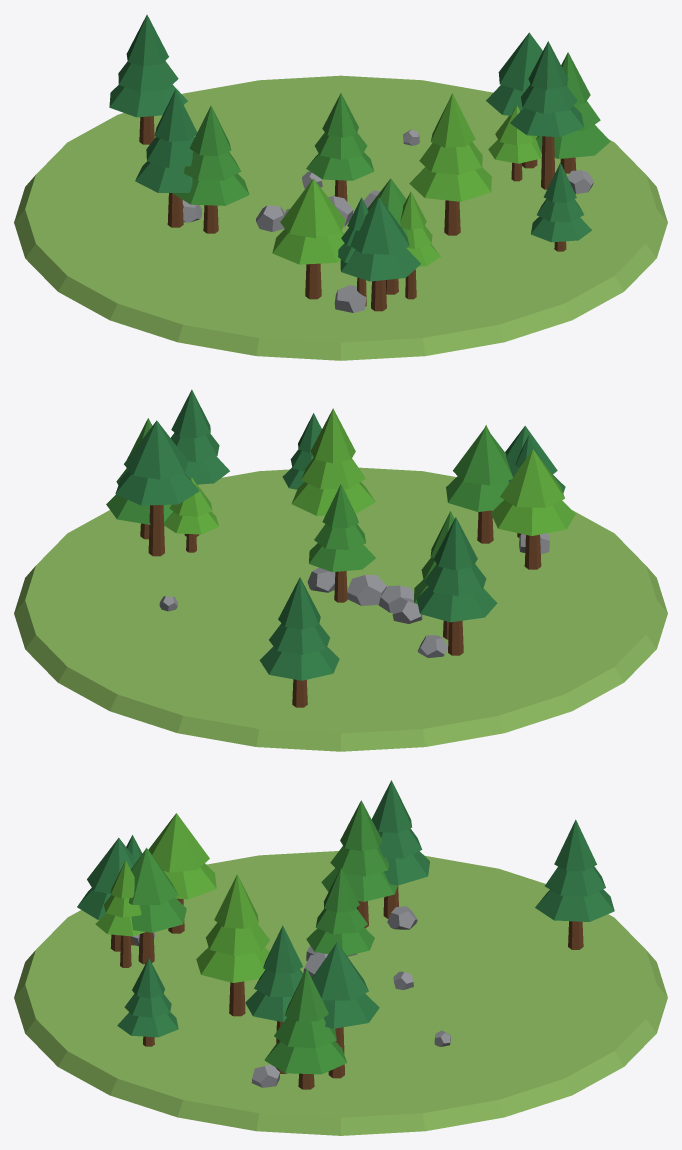
The model's file is tree-grove.ee99a719.glb.
3 renders of one model, top to bottom at view 1: azimuth 30°, elevation 25°; view 2: azimuth 150°, elevation 25°; view 3: azimuth 270°, elevation 25°, orthographic.
Parts seen in each view (by area): view 1: ground, grove__tree_5, grove__tree_0, grove__tree_8, grove__tree_11, grove__tree_1, grove__tree_7, grove__tree_9, spare_tree, grove, grove__tree_2, grove__tree_4 (+8 smaller); view 2: ground, grove__tree_9, grove__tree_0, grove__tree_5, grove__tree_8, grove__tree_12, grove, grove__tree_3, spare_tree, grove__tree_11, grove__tree_13, grove__tree_4 (+5 smaller); view 3: ground, grove__tree_5, grove__tree_4, grove__tree_0, grove__tree_1, grove__tree_12, grove__tree_9, grove__tree_8, spare_tree, grove__tree_3, grove__tree_11, grove__tree_2 (+4 smaller).
Boxes of the visible parts, <box> form: ground: <box>14,75,667,360</box>; grove__tree_5: <box>409,93,491,201</box>; grove__tree_0: <box>109,14,187,117</box>; grove__tree_8: <box>272,178,345,264</box>; grove__tree_11: <box>510,41,584,137</box>; grove__tree_1: <box>172,105,249,205</box>; grove__tree_7: <box>340,197,420,281</box>; grove__tree_9: <box>135,89,197,192</box>; spare_tree: <box>306,93,374,180</box>; grove: <box>182,129,593,312</box>; grove__tree_2: <box>531,163,591,242</box>; grove__tree_4: <box>536,52,610,158</box>; ground: <box>14,467,667,751</box>; grove__tree_9: <box>416,517,497,622</box>; grove__tree_0: <box>259,577,339,680</box>; grove__tree_5: <box>291,408,375,515</box>; grove__tree_8: <box>491,449,575,535</box>; grove__tree_12: <box>115,420,199,505</box>; grove: <box>159,533,549,657</box>; grove__tree_3: <box>446,427,512,511</box>; spare_tree: <box>309,484,375,571</box>; grove__tree_11: <box>171,389,229,484</box>; grove__tree_13: <box>164,477,218,534</box>; grove__tree_4: <box>106,418,173,524</box>; ground: <box>14,851,667,1135</box>; grove__tree_5: <box>196,874,270,982</box>; grove__tree_4: <box>264,968,346,1074</box>; grove__tree_0: <box>535,819,614,921</box>; grove__tree_1: <box>321,800,397,901</box>; grove__tree_12: <box>312,942,379,1028</box>; grove__tree_9: <box>371,780,429,885</box>; grove__tree_8: <box>148,813,216,899</box>; spare_tree: <box>306,868,374,955</box>; grove__tree_3: <box>128,847,186,932</box>; grove__tree_11: <box>245,925,303,1022</box>; grove__tree_2: <box>117,958,178,1037</box>.
Bounding box in the file's own units: 17.6 × 4.82 × 17.6.
